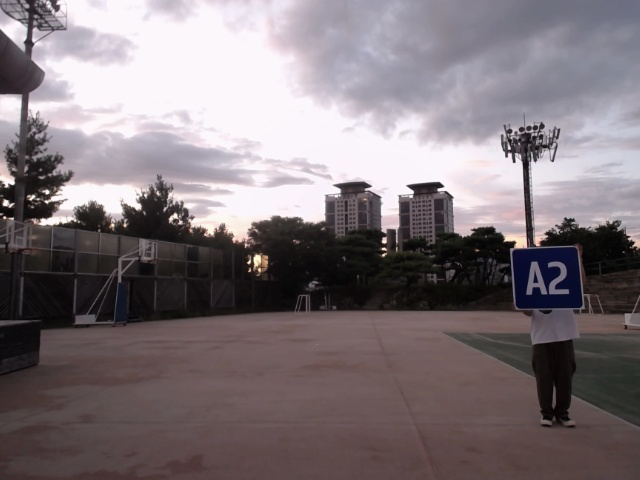delivery_a2: (512, 246, 584, 310)
